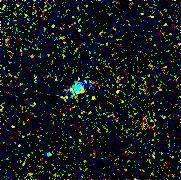star: (79, 83, 109, 113)
